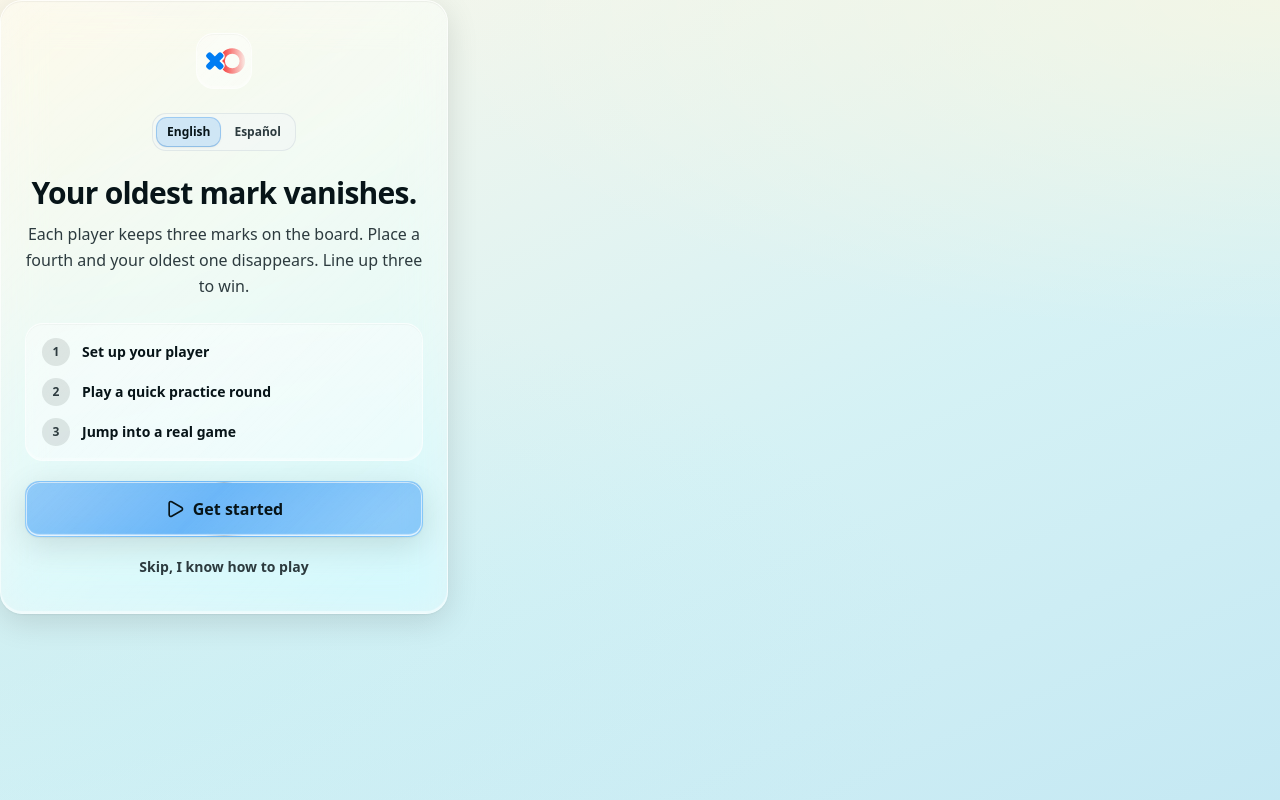
it: live switch › re-renders the welcome step in Spanish and back
Expected: the heading "Your oldest mark vanishes." is shown, 25,175 -> 423,211
Click the button "Español".
click(258, 132)  # box 224,118 -> 291,146
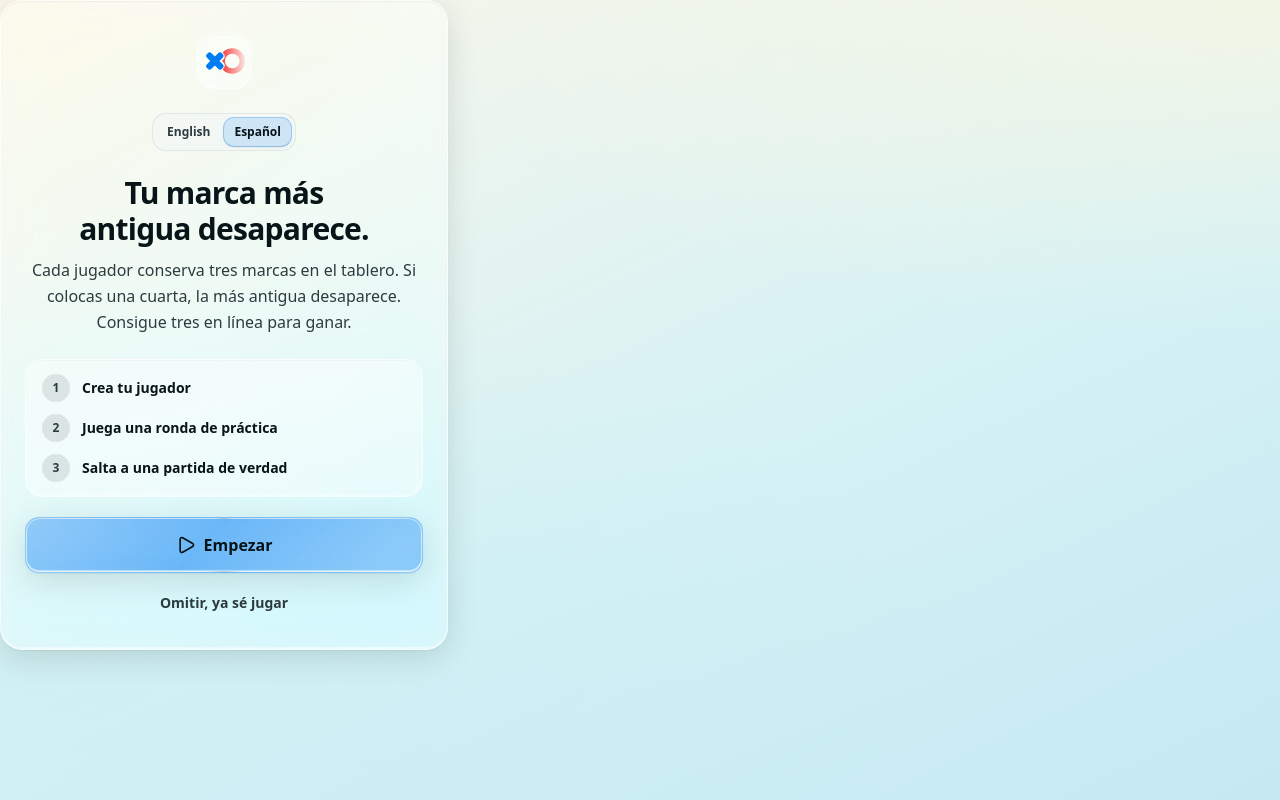
Result: the heading "Tu marca más antigua desaparece." is shown at 79,172 -> 369,249
Result: the heading "Your oldest mark vanishes." is gone
Click the button "English".
click(189, 132)  # box 157,118 -> 220,146
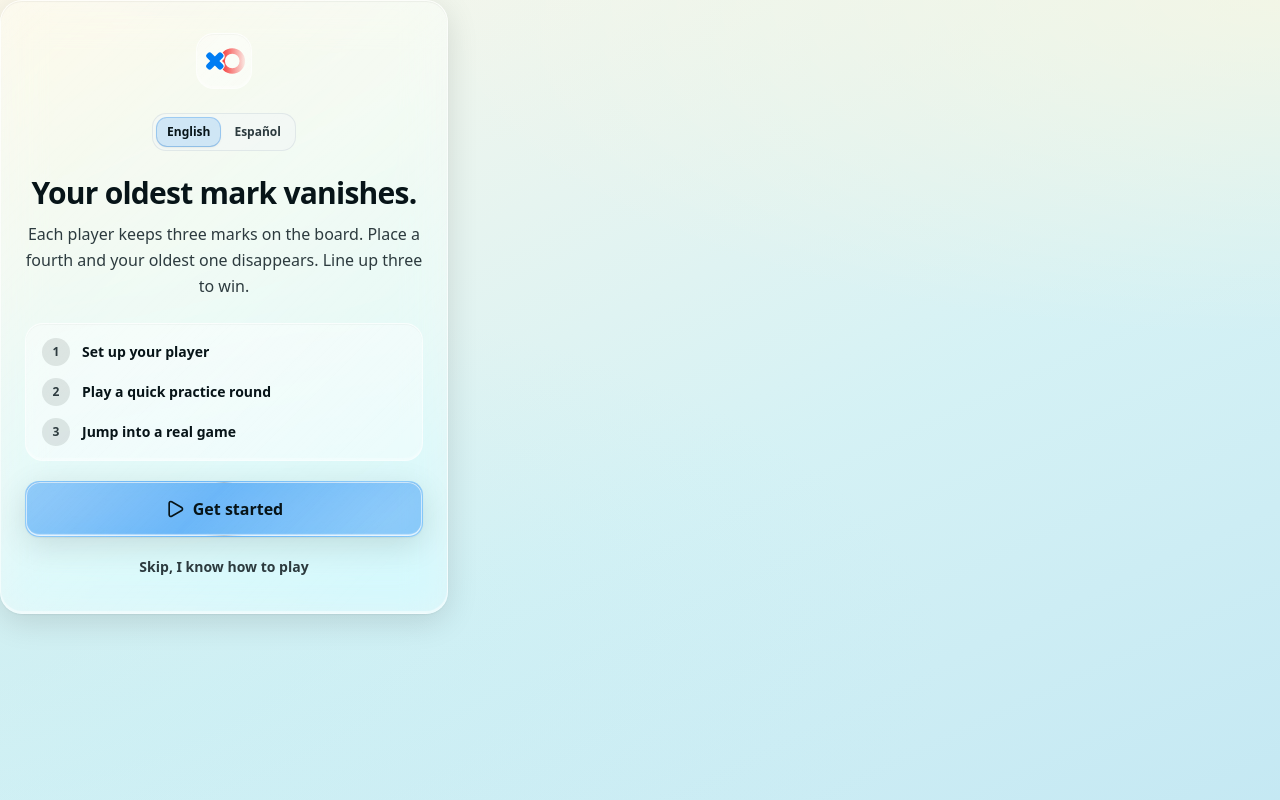
Result: the heading "Your oldest mark vanishes." is shown at 25,175 -> 423,211
